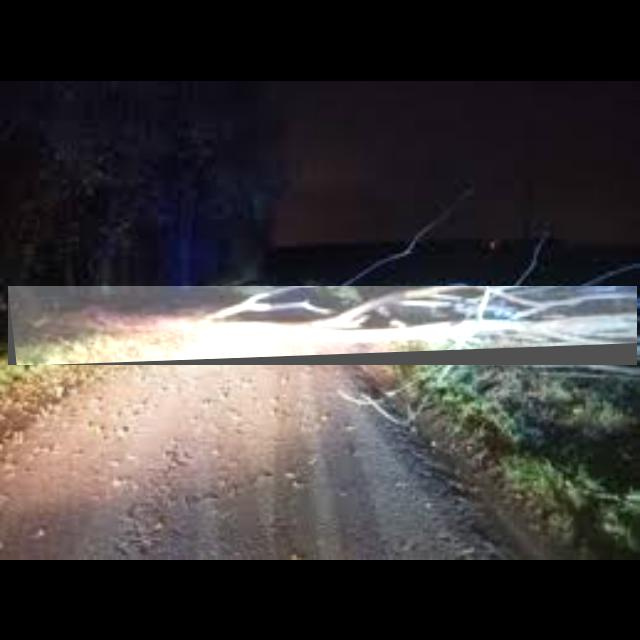Fallen Tree: (8, 286, 638, 366)
